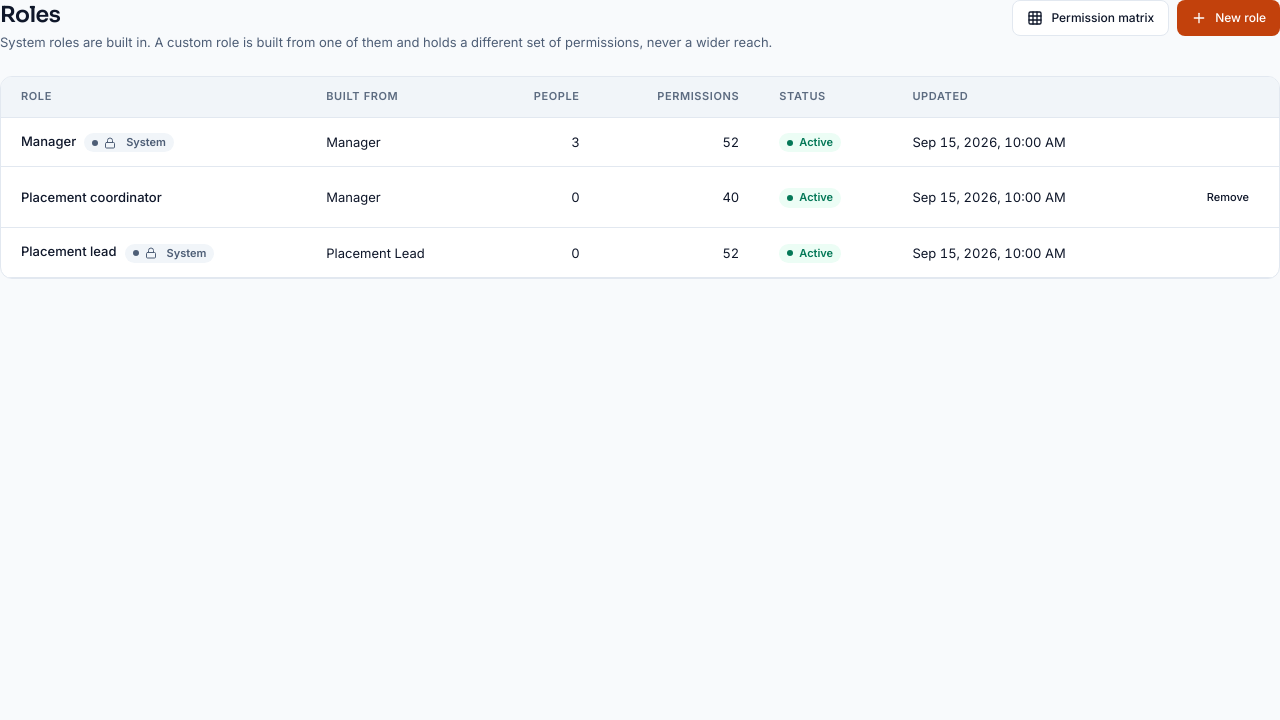
Test: RolesPage › lists system and custom roles and removes a custom one with a reason
Check: the text "System" is shown 2 times, box [84,133,174,152]; [124,244,214,263]
Check: the text "Placement Lead" is shown, box [306,228,487,278]
Click the button "Remove": (1228, 198) [1197,182,1259,214]
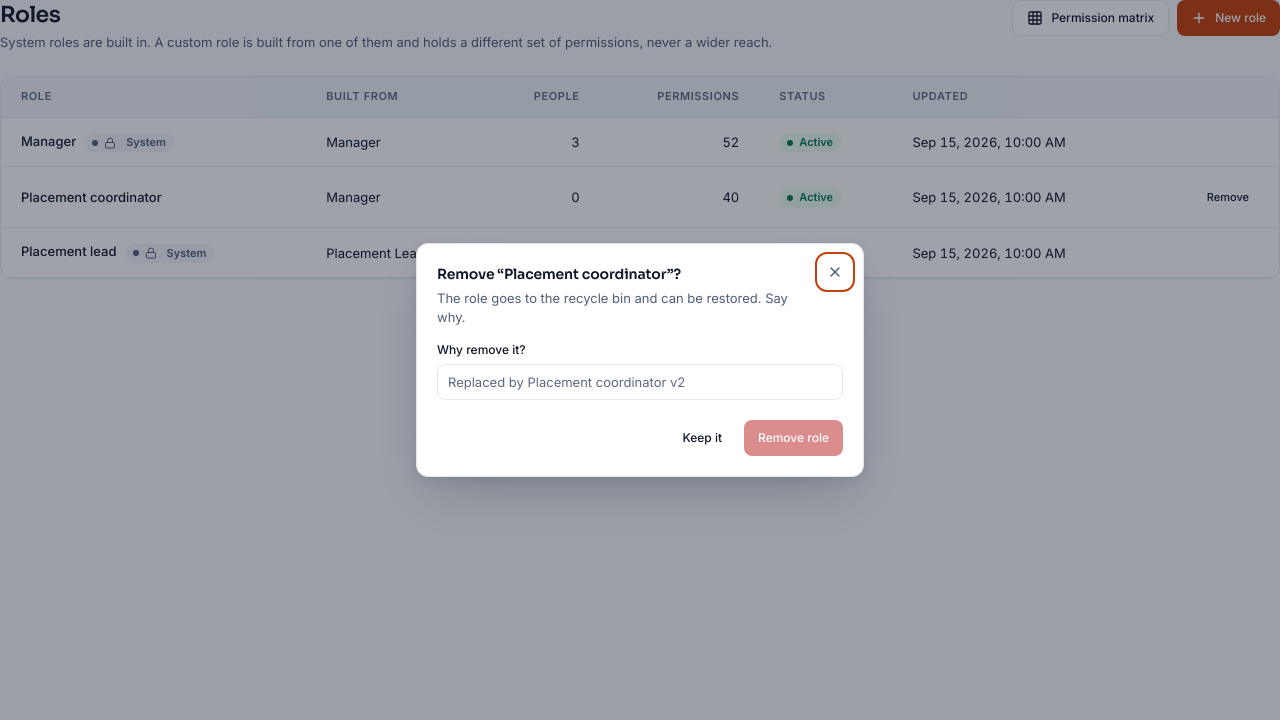
In the field labelled "Why remove it?": (640, 382) [437,364,843,400], type "Replaced"
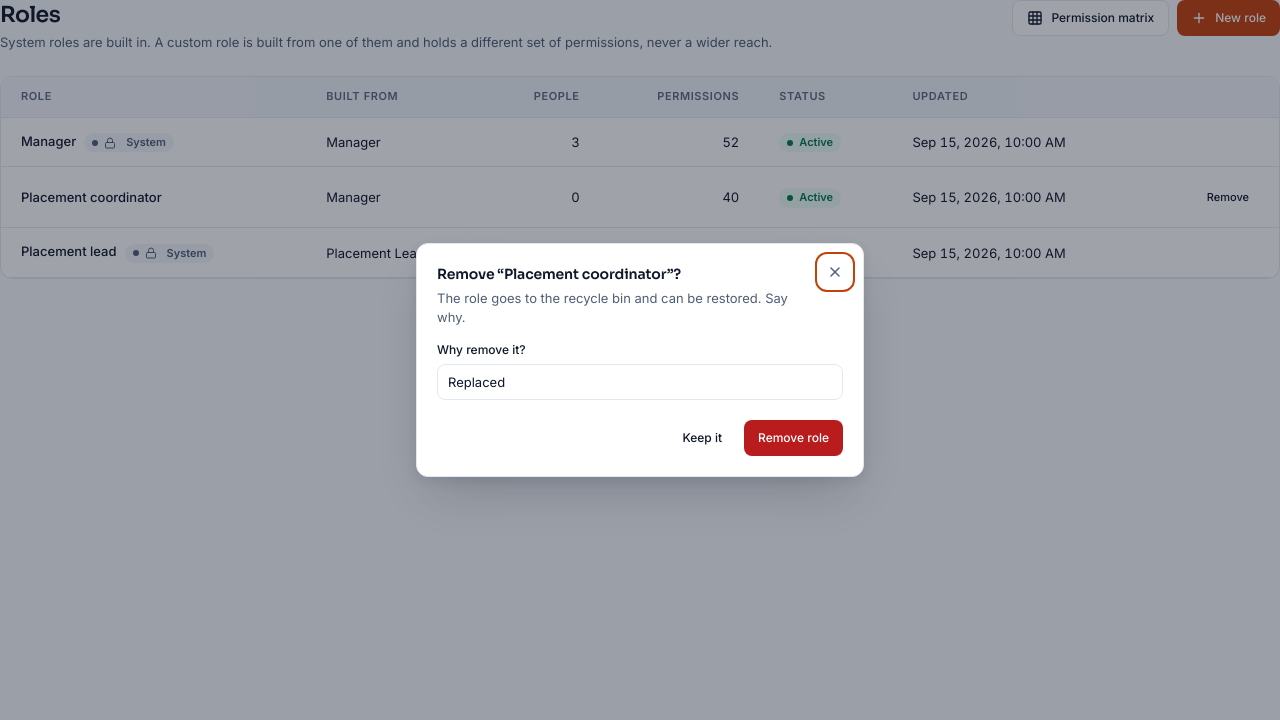
Click the button "Remove role": (794, 438) [744,420,843,456]
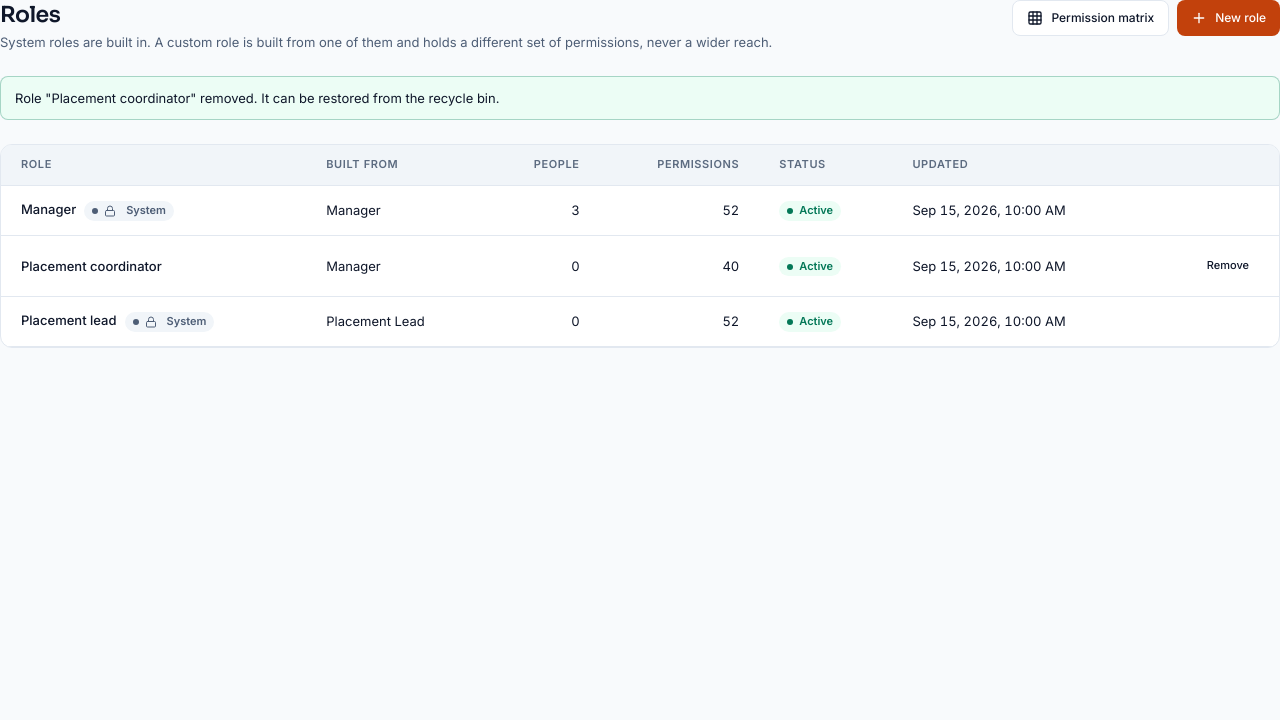
Check: the text "Role \"Placement coordinator\" removed. It can be restored from the recycle bin." is shown, box [0,76,1279,120]
